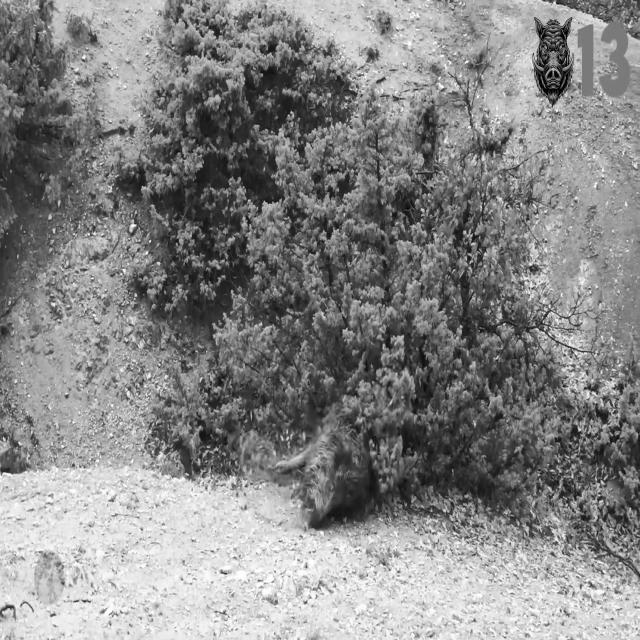boar: (275, 404, 377, 526)
